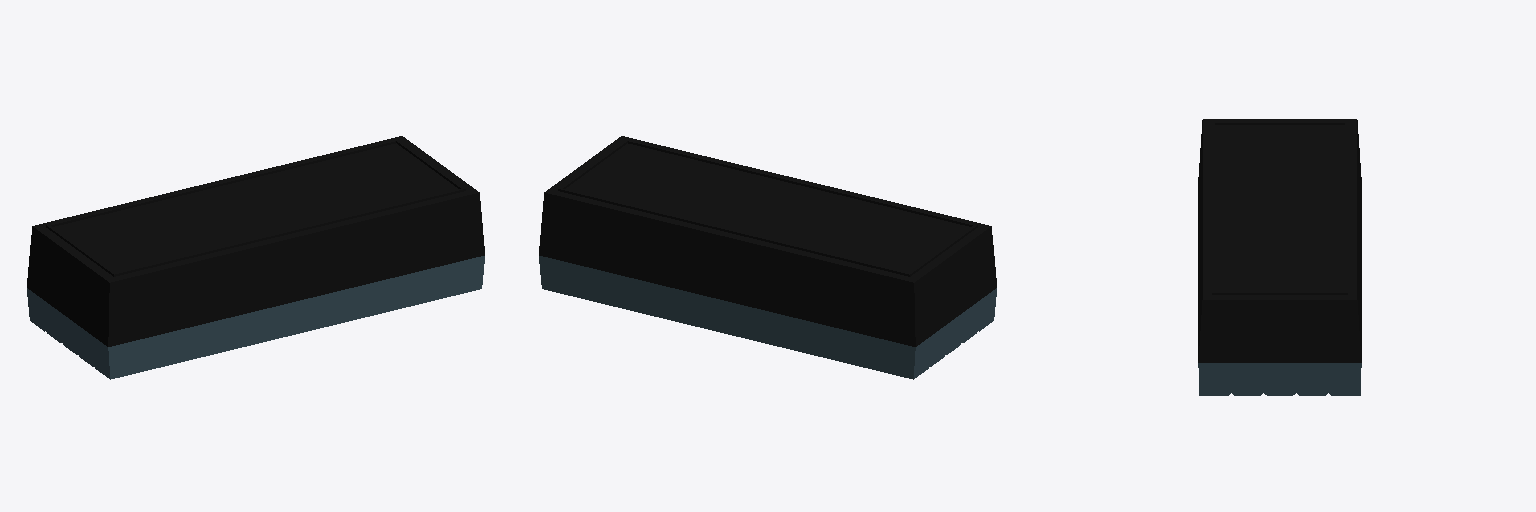
The model's file is Blackboard_Eraser_01.obj.
3 views of the same model, side by side, from view 1: azimuth 30°, elevation 25°; view 2: azimuth 150°, elevation 25°; view 3: azimuth 270°, elevation 25° (orthographic).
Visible parts, largest first — view 1: Blackboard_Eraser_01_Cube.030; view 2: Blackboard_Eraser_01_Cube.030; view 3: Blackboard_Eraser_01_Cube.030.
Boxes of the visible parts, x1=… form: Blackboard_Eraser_01_Cube.030: x1=27, y1=136, x2=484, y2=379; Blackboard_Eraser_01_Cube.030: x1=539, y1=136, x2=996, y2=379; Blackboard_Eraser_01_Cube.030: x1=1198, y1=119, x2=1361, y2=395.
Bounding box in the file's own units: 9.99 × 2.48 × 3.75.